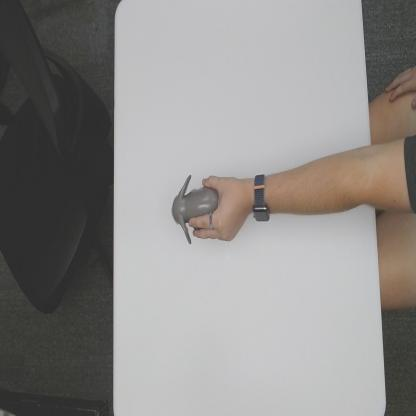Arm: (269, 144, 376, 218)
Elephant: (171, 173, 218, 245)
Hand: (190, 177, 253, 242)
